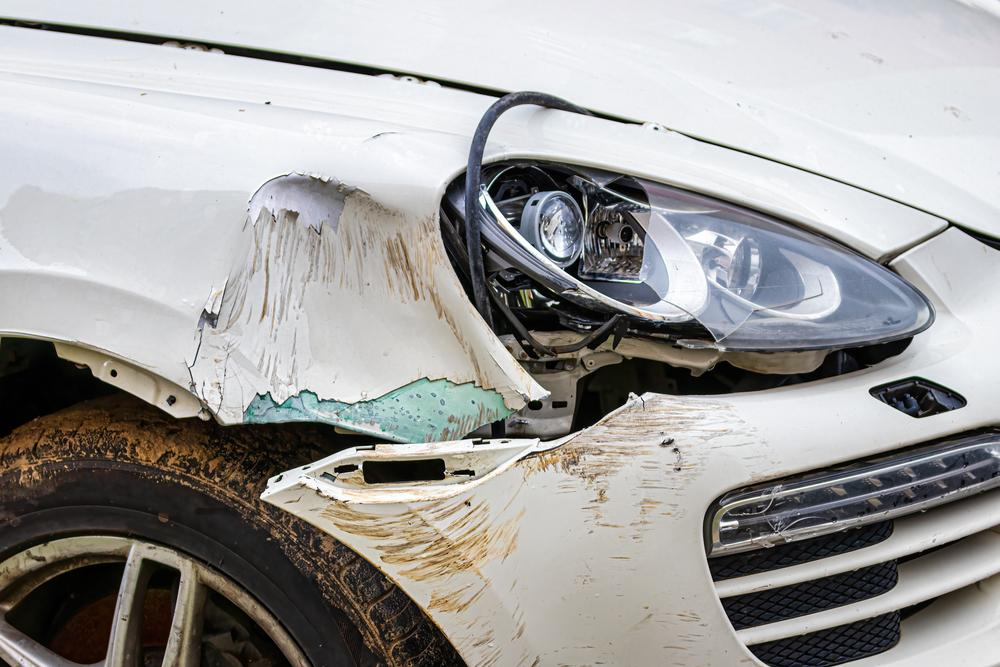dent: (183, 175, 551, 426)
lamp broken: (440, 157, 931, 353)
scratch: (321, 394, 776, 667)
